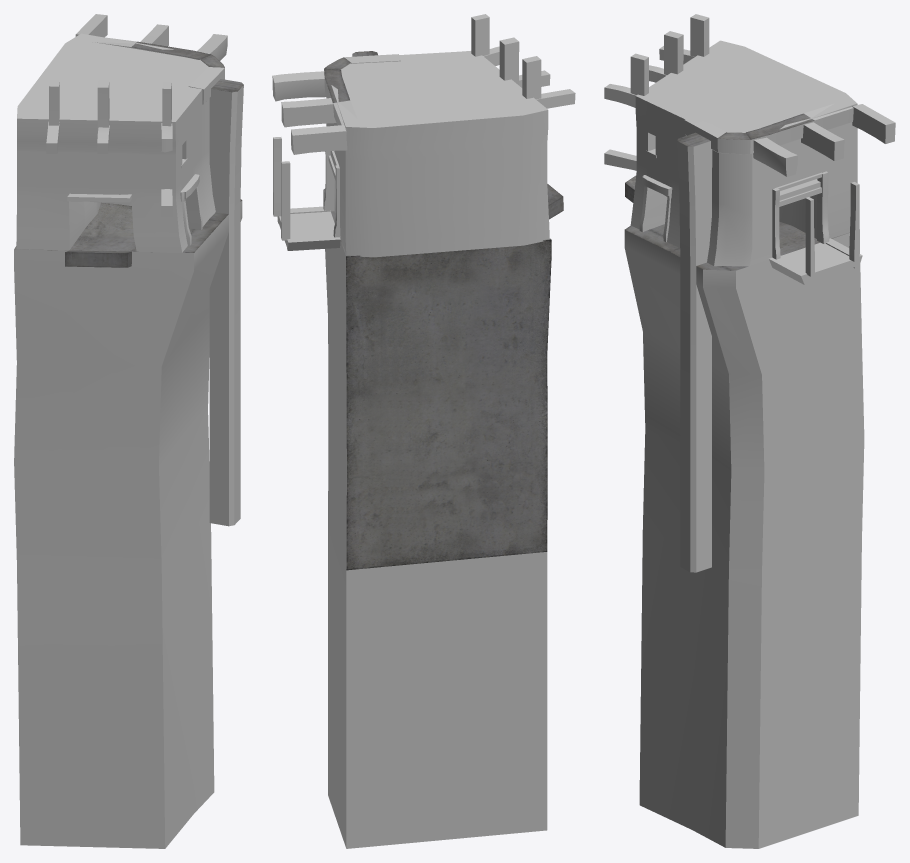
The picture shows the model from 3 angles, left to right: view 1: azimuth 30°, elevation 25°; view 2: azimuth 150°, elevation 25°; view 3: azimuth 270°, elevation 25°; orthographic projection.
Visible parts, largest first — view 1: Cube.057; view 2: Cube.057; view 3: Cube.057.
Part boxes in pixels (x1=…): Cube.057: x1=14, y1=14, x2=243, y2=848; Cube.057: x1=272, y1=14, x2=575, y2=848; Cube.057: x1=604, y1=14, x2=895, y2=848.
Bounding box in the file's own units: 1571 × 4631 × 1632.
